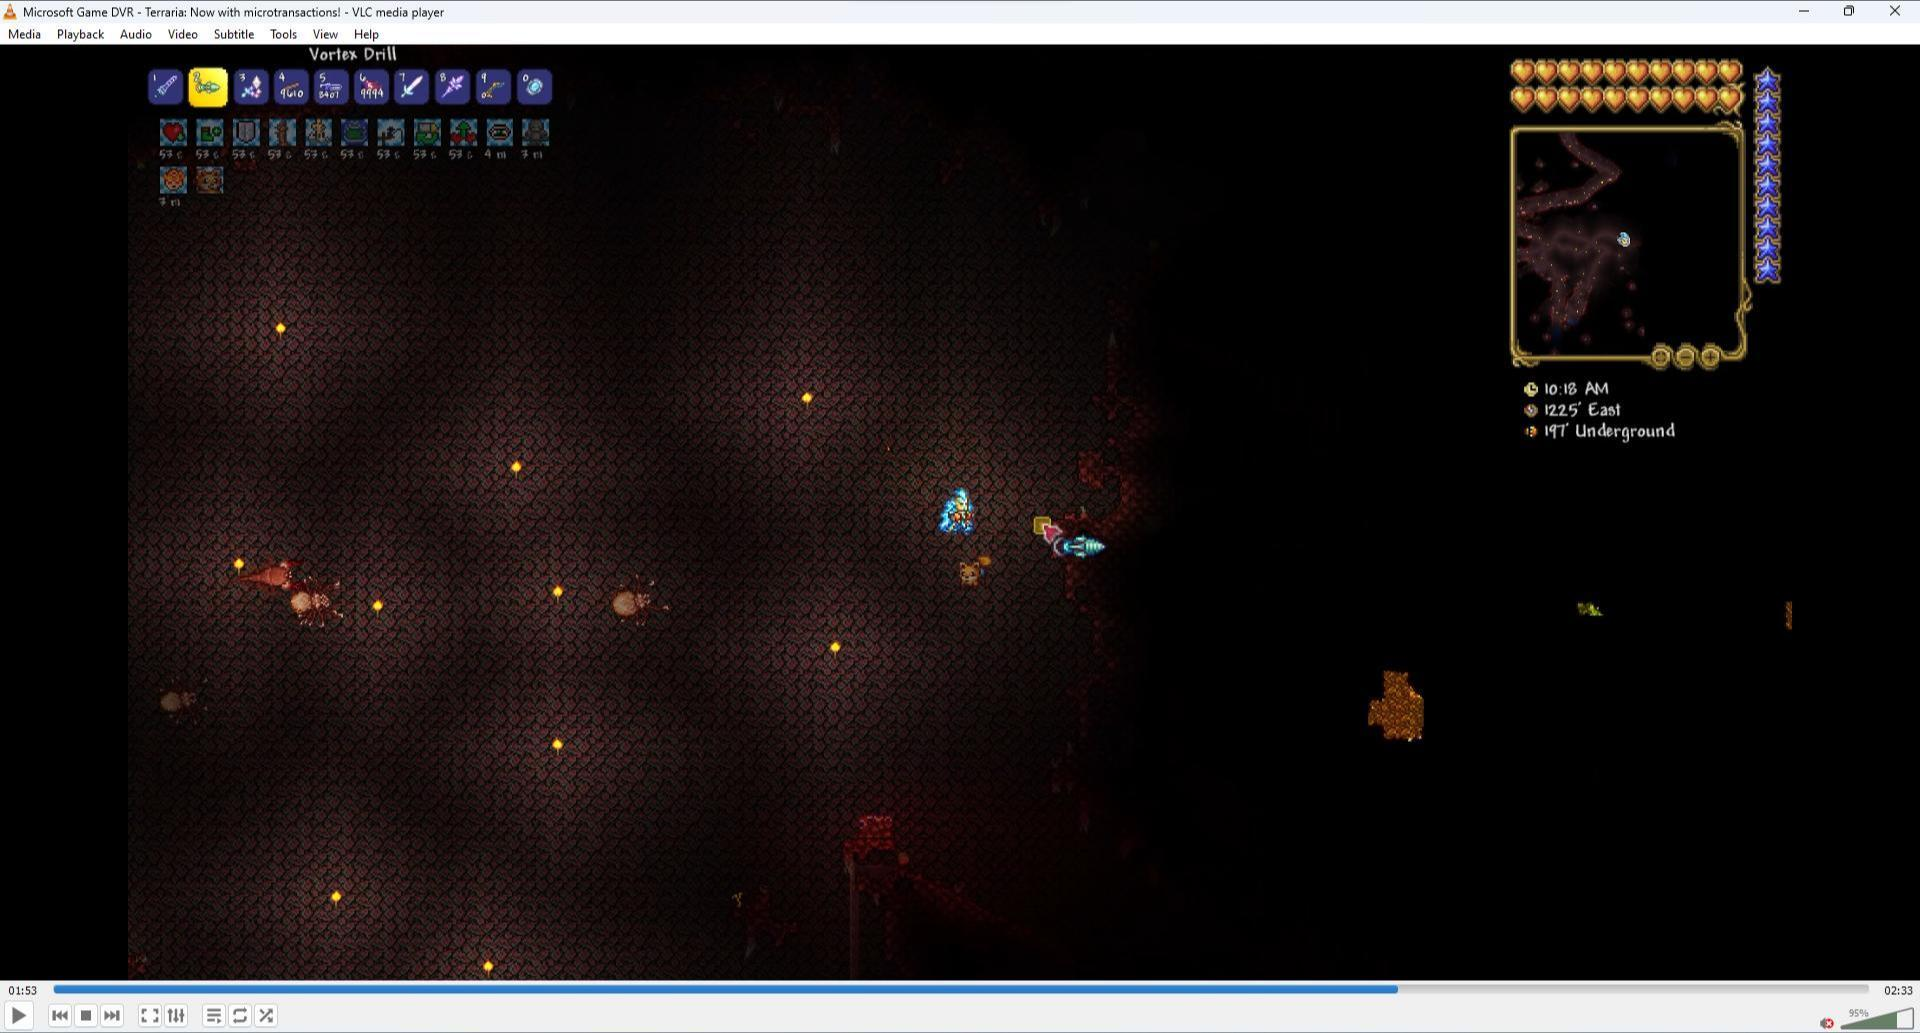crimera: (239, 558, 306, 595)
spider: (605, 569, 676, 627), (290, 579, 348, 631)
